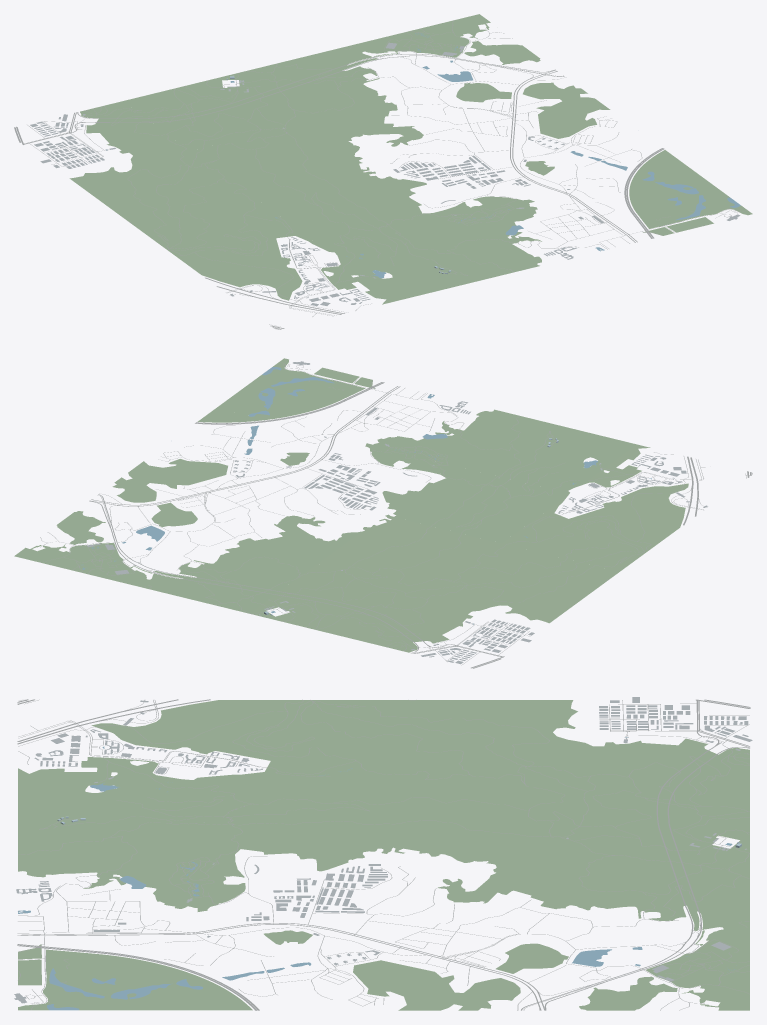
File: overview-known--5_3.glb
3 renders of one model, top to bottom at view 1: azimuth 30°, elevation 25°; view 2: azimuth 150°, elevation 25°; view 3: azimuth 270°, elevation 25°, orthographic. The views are drawn at different scales.
Bounding box in the file's own units: 4041 × 12.7 × 4018.
